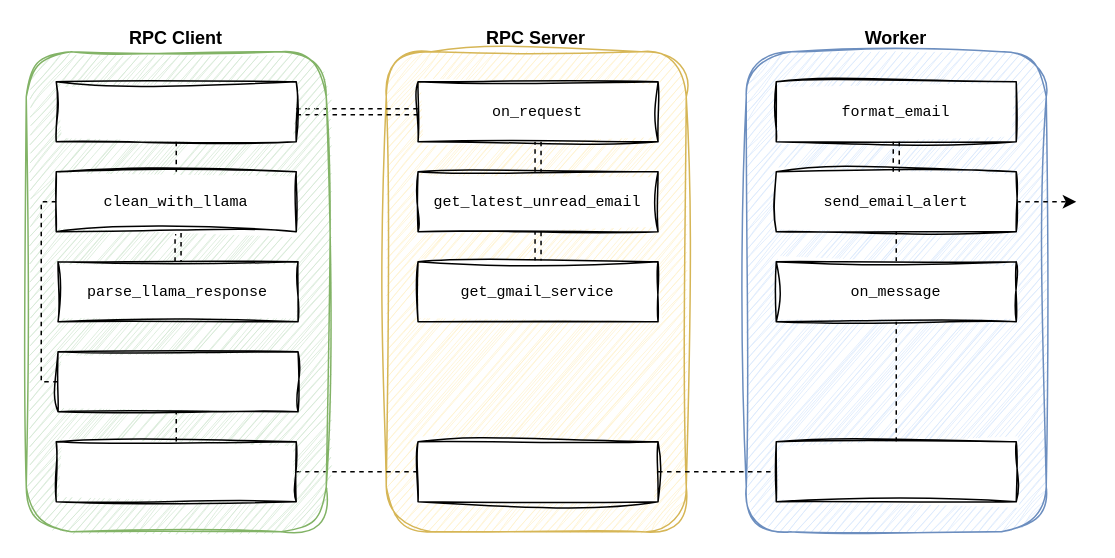
This 1115x558 diagram has some shape labels left out. The centre of each missing label's shape, as x and y in pixels:
"analyze_sentiment_with_llama" belongs at pixel 177 381.
"connect_to_rabbitmq" belongs at pixel 895 471.
"GmailRpcClient" belongs at pixel 175 111.
"Queue" belongs at pixel 537 471.
"send_to_rabbitmq" belongs at pixel 175 471.
